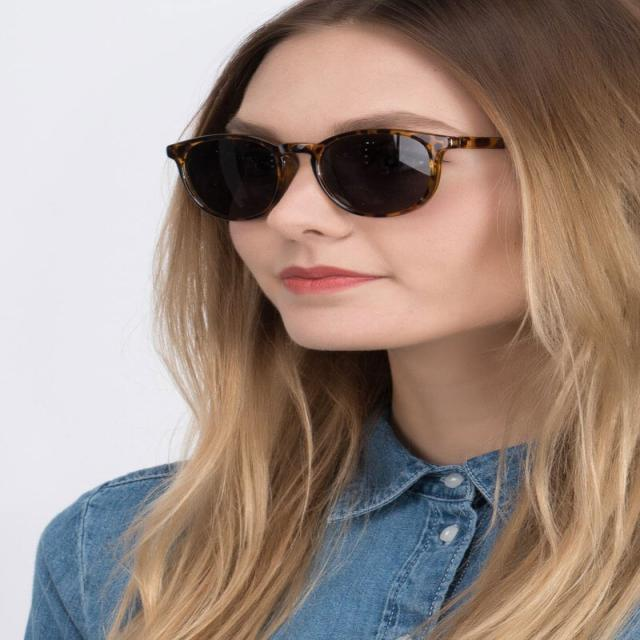2_gafas: (165, 127, 507, 222)
